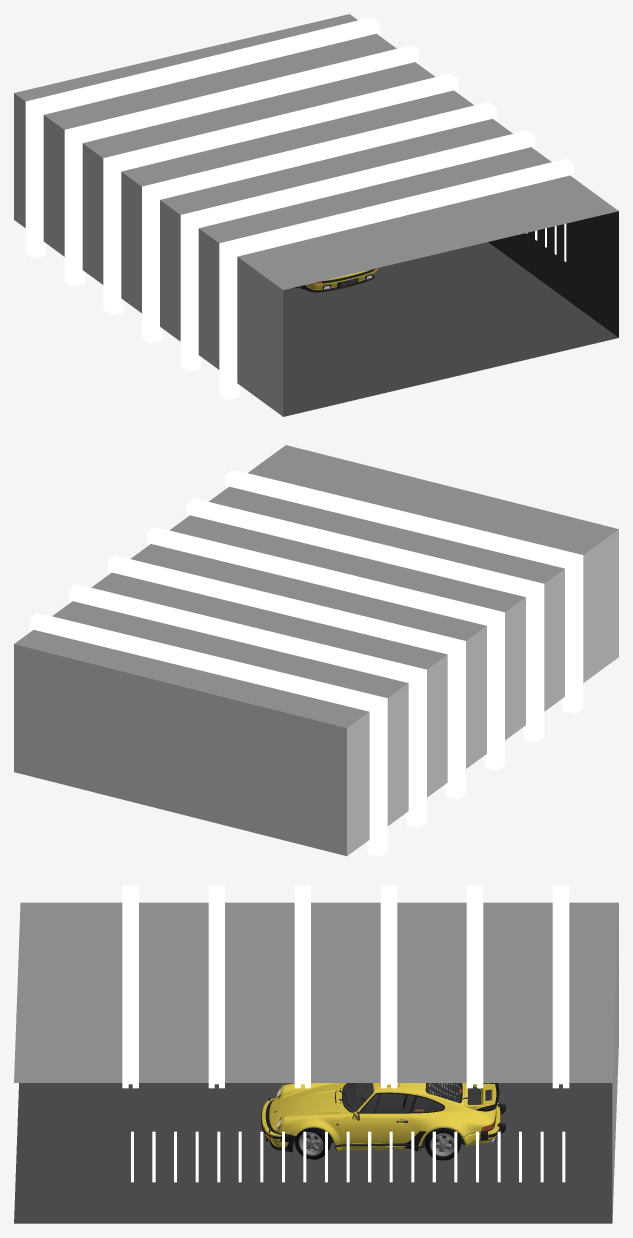
The model's file is RTCar.glb.
3 views of the same model, one above another, from view 1: azimuth 30°, elevation 25°; view 2: azimuth 150°, elevation 25°; view 3: azimuth 270°, elevation 25° (orthographic). The views are drawn at different scales.
Visible parts, largest first — view 1: Plane.001, Cube; view 2: Plane.001, Cube; view 3: Plane.001, Cube, Circle.000_12, Cube.001, Cube.004_23, Circle.026_45, Circle.050_51, Circle.051_37.
Part boxes in pixels (<box>): Plane.001: <box>14,14,618,416</box>; Cube: <box>25,17,573,400</box>; Plane.001: <box>14,445,618,856</box>; Cube: <box>29,469,583,856</box>; Plane.001: <box>14,902,618,1223</box>; Cube: <box>122,885,569,1088</box>; Circle.000_12: <box>261,1083,500,1151</box>; Cube.001: <box>131,1131,565,1182</box>; Cube.004_23: <box>272,1083,491,1147</box>; Circle.026_45: <box>261,1083,505,1152</box>; Circle.050_51: <box>425,1128,460,1160</box>; Circle.051_37: <box>294,1127,331,1159</box>.
Size of the model in its own units: 8.88 by 3.71 by 12.07.
Materials: 17 (2 with a texture image).
